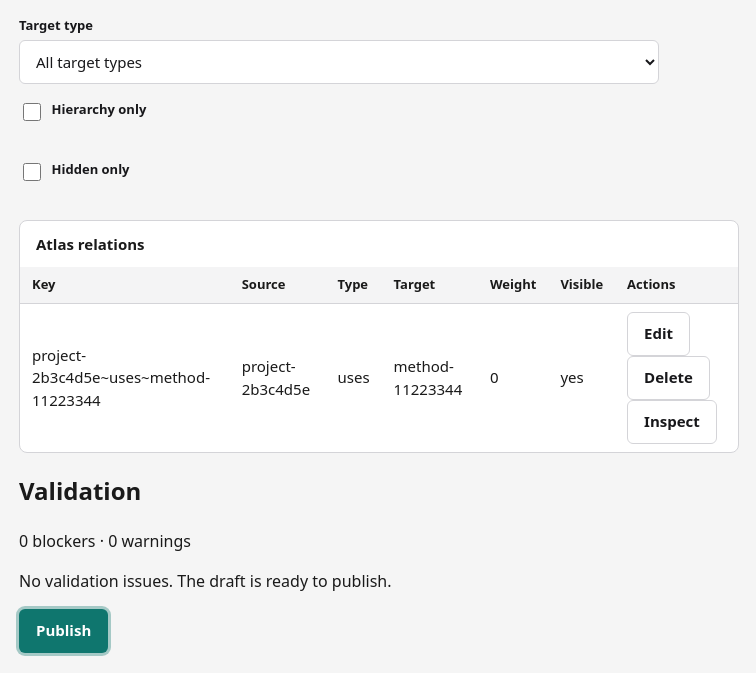
Test case: AtlasEditorPage accessibility (Plan B Task 17) › keeps selectable fallbacks beside the graph and opens no modal dialog
(page scrolled)
Click the button "Publish": coordinates (64, 630) [19, 608, 108, 652]
(page scrolled)
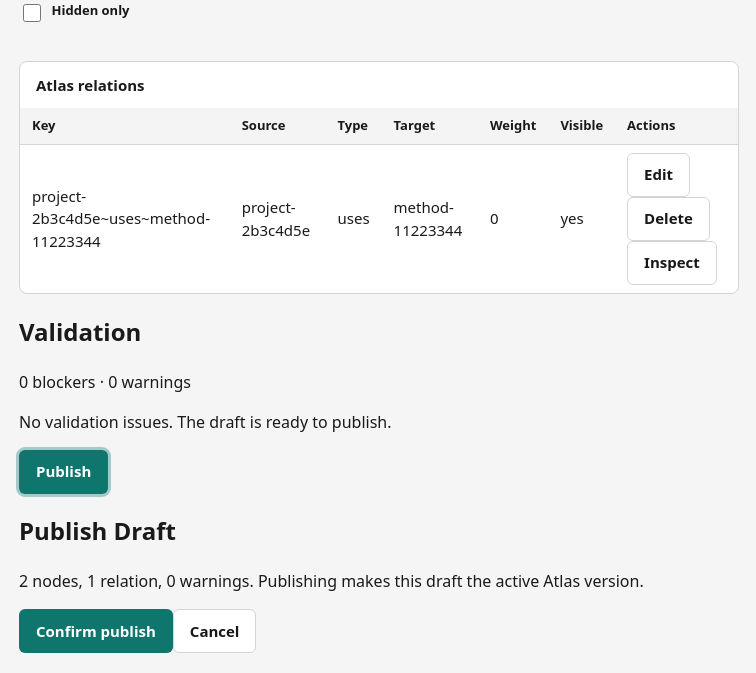
Expected: the button "Confirm publish" is shown, [19, 609, 173, 653]
